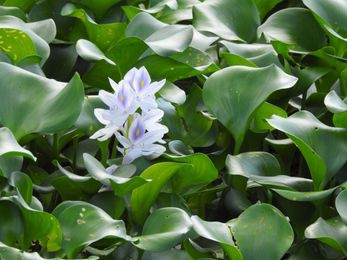water_hyacinth: (0, 61, 347, 260)
